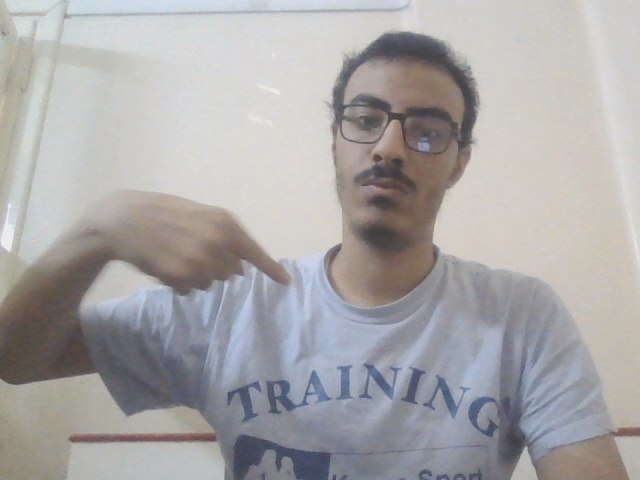Me: (79, 174, 307, 306)
